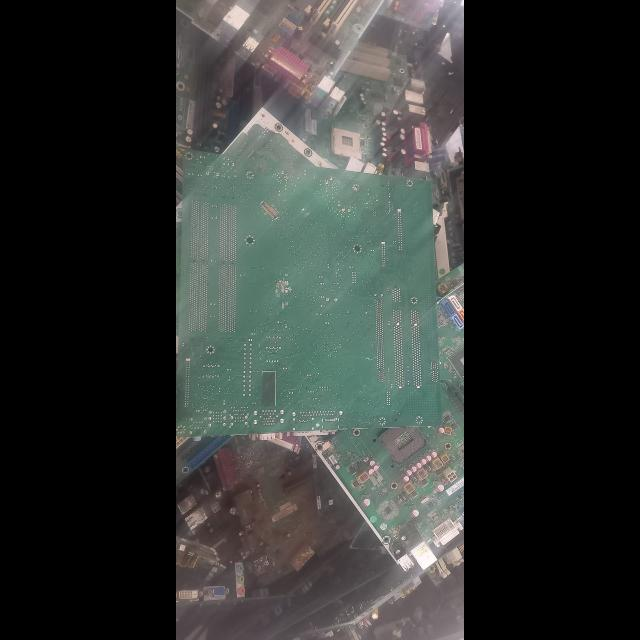PCB: (176, 112, 448, 454)
